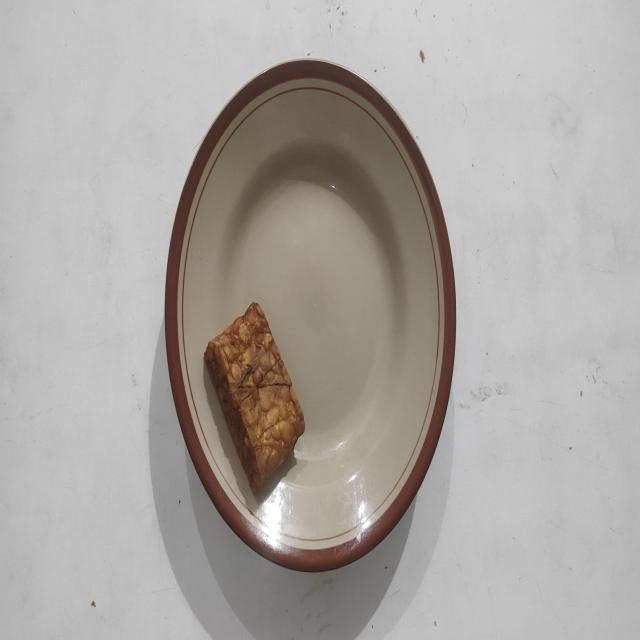tempe_goreng: (204, 303, 304, 492)
